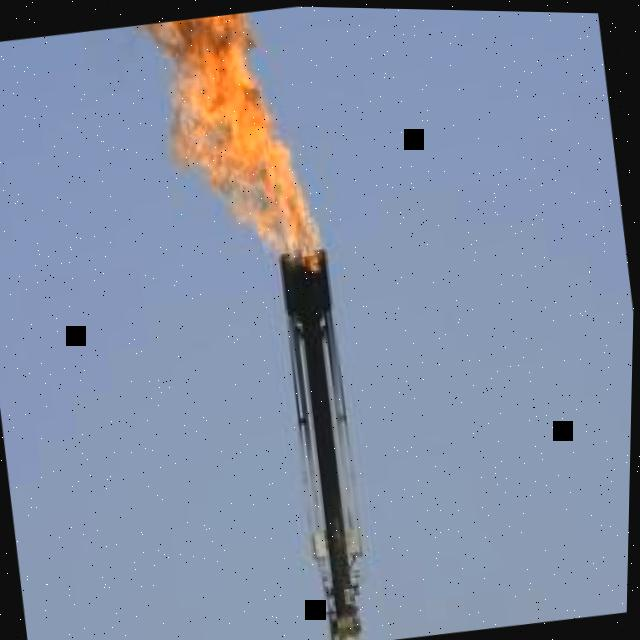fire: (140, 12, 321, 267)
